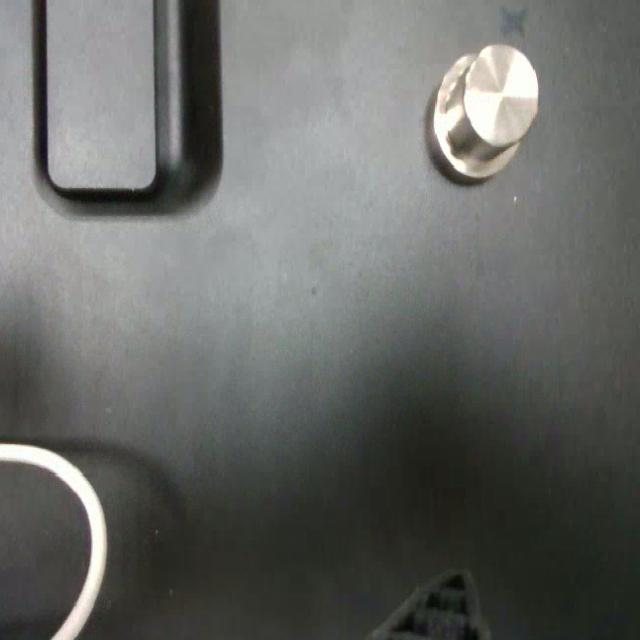sensor: (429, 42, 539, 181)
